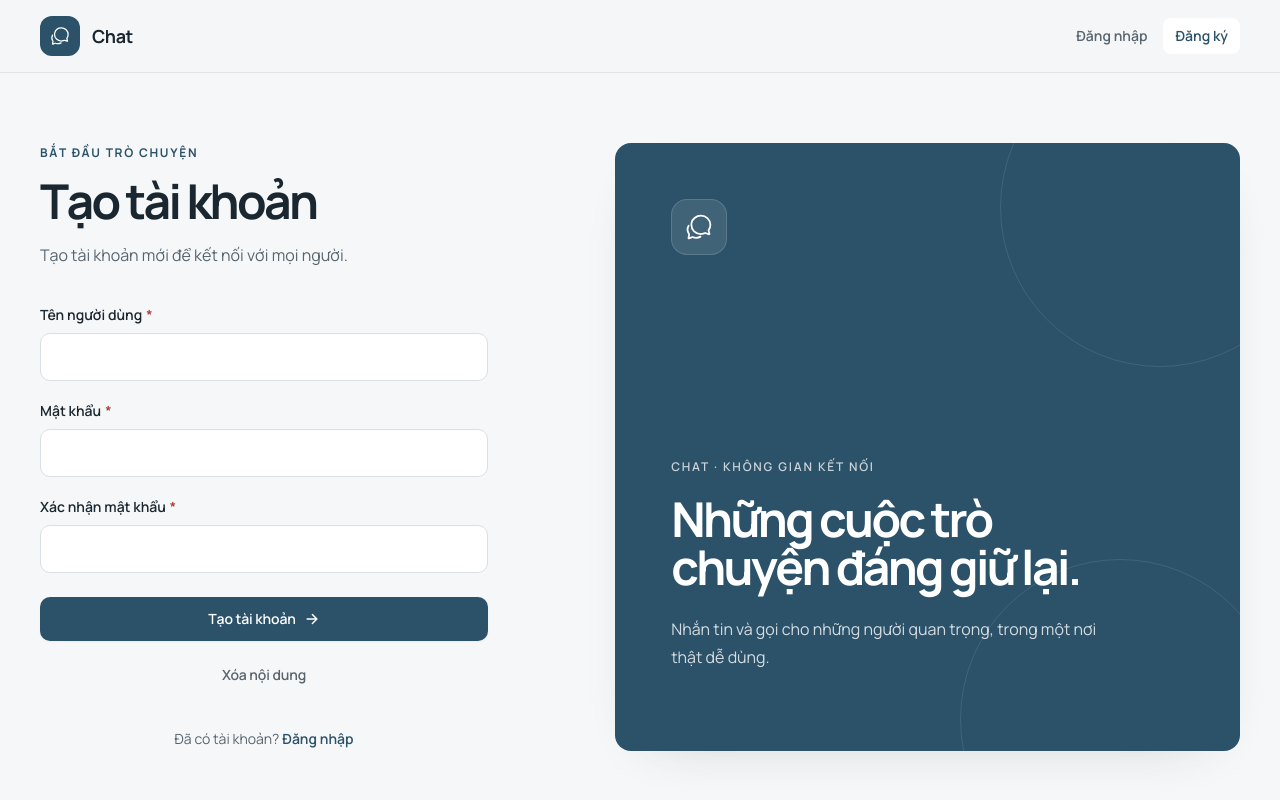
Test case: registration explains when the confirmation password does not match
The image size is (1280, 800).
Type "nivz" into the field labelled "Tên người dùng*".
click(264, 357); type("nivz")  # box x1=40 y1=333 x2=488 y2=381
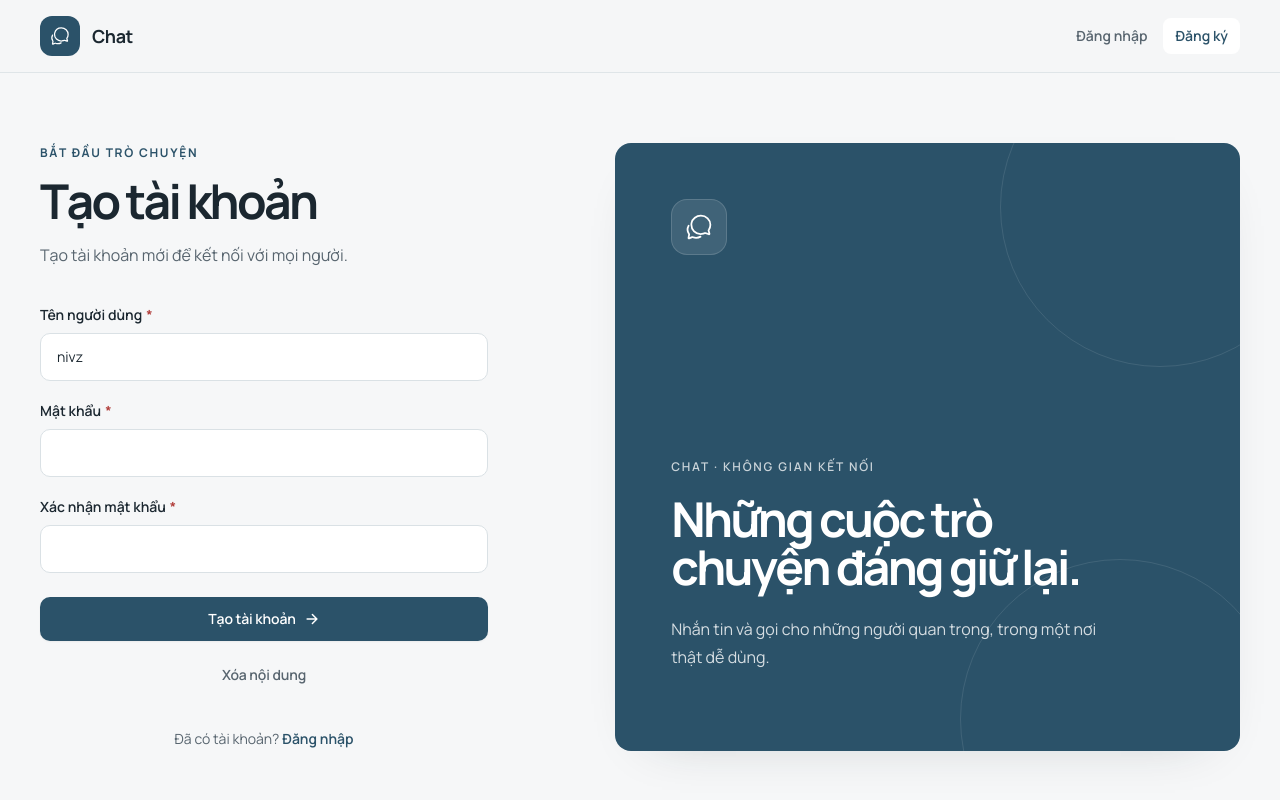
Type "password" into the password field labelled "Mật khẩu*".
click(264, 453); type("password")  # box x1=40 y1=429 x2=488 y2=477
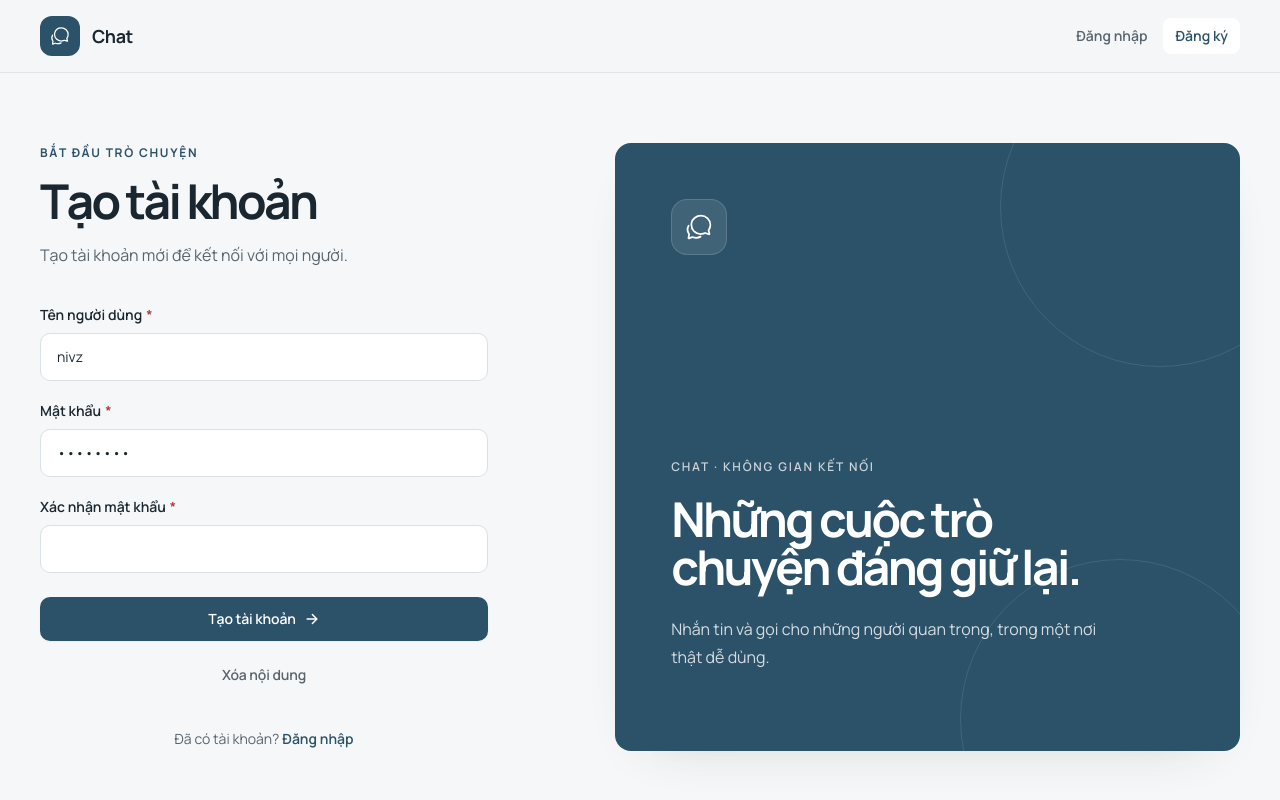
Type "different" into the password field labelled "Xác nhận mật khẩu*".
click(264, 549); type("different")  # box x1=40 y1=525 x2=488 y2=573
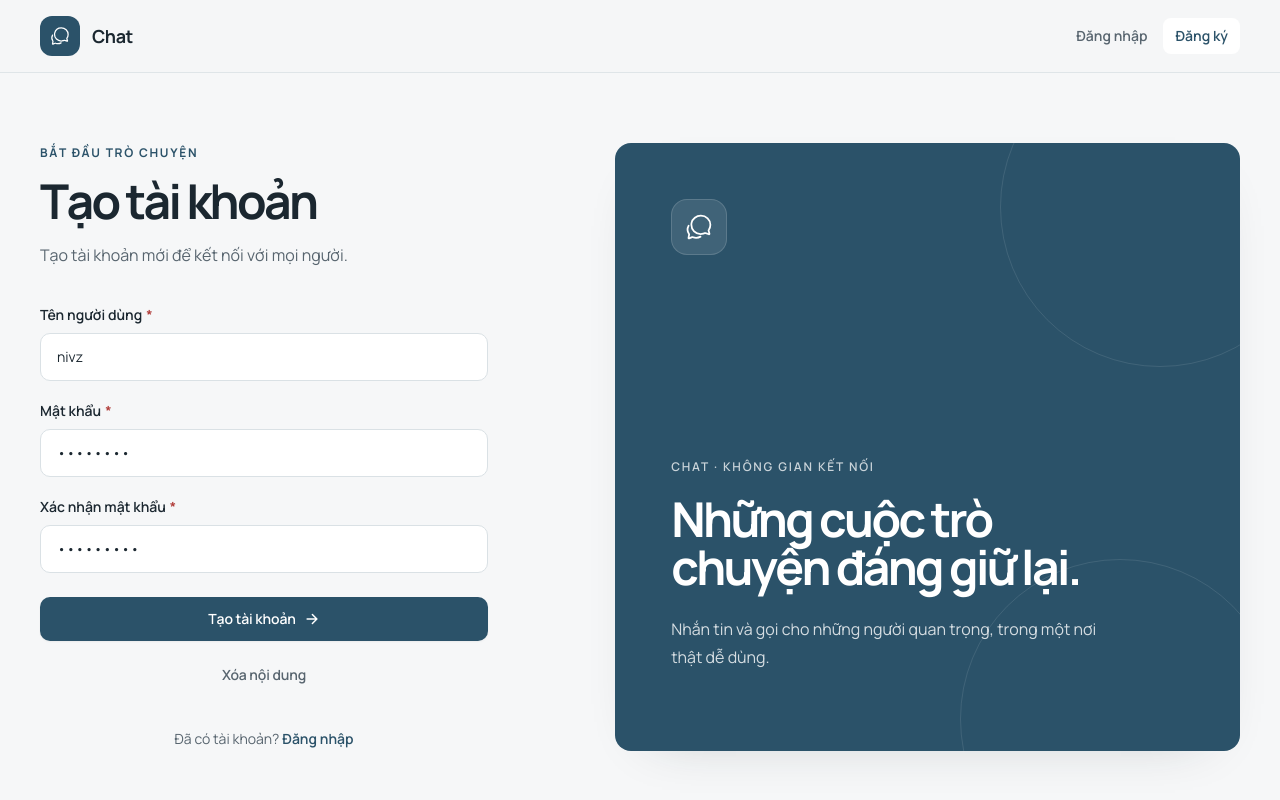
Click the button "Tạo tài khoản".
click(264, 619)  # box x1=40 y1=597 x2=488 y2=641
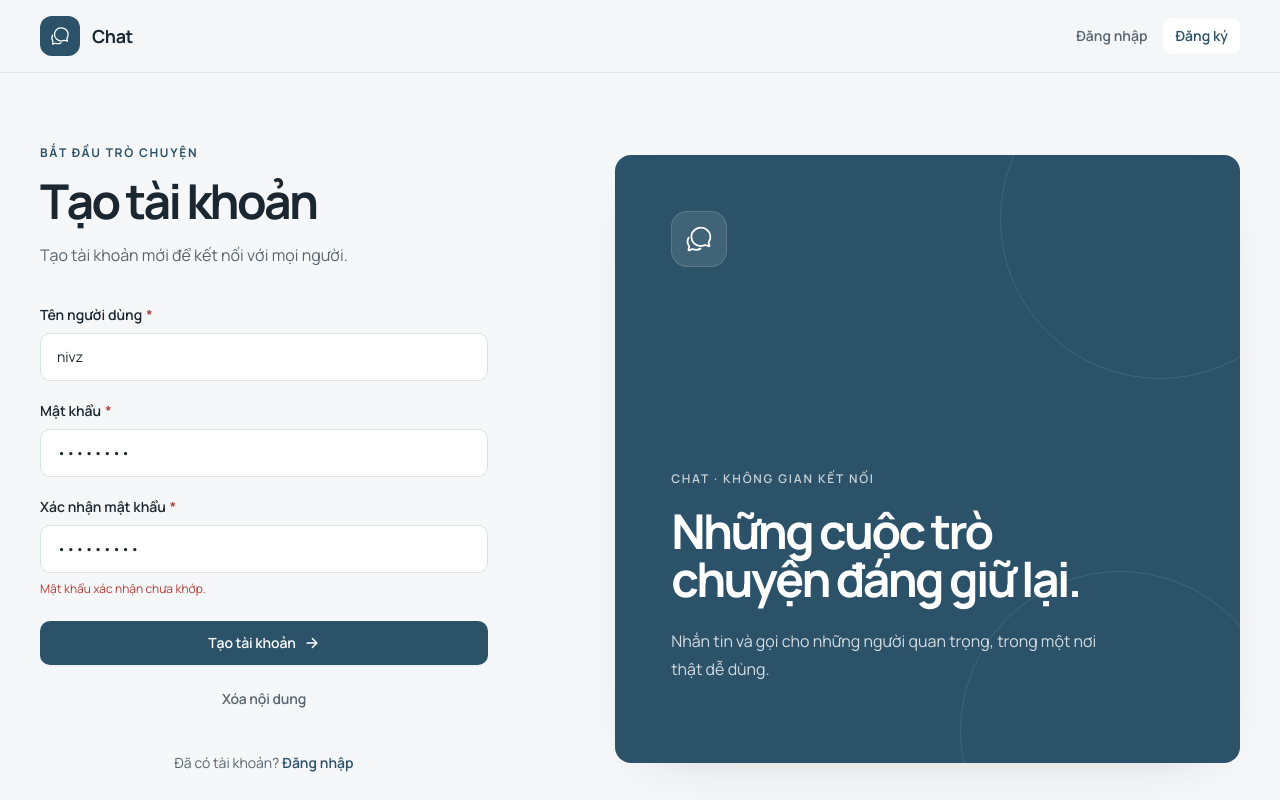
expect the text "Mật khẩu xác nhận chưa khớp." is shown: met, box x1=40 y1=580 x2=206 y2=597
